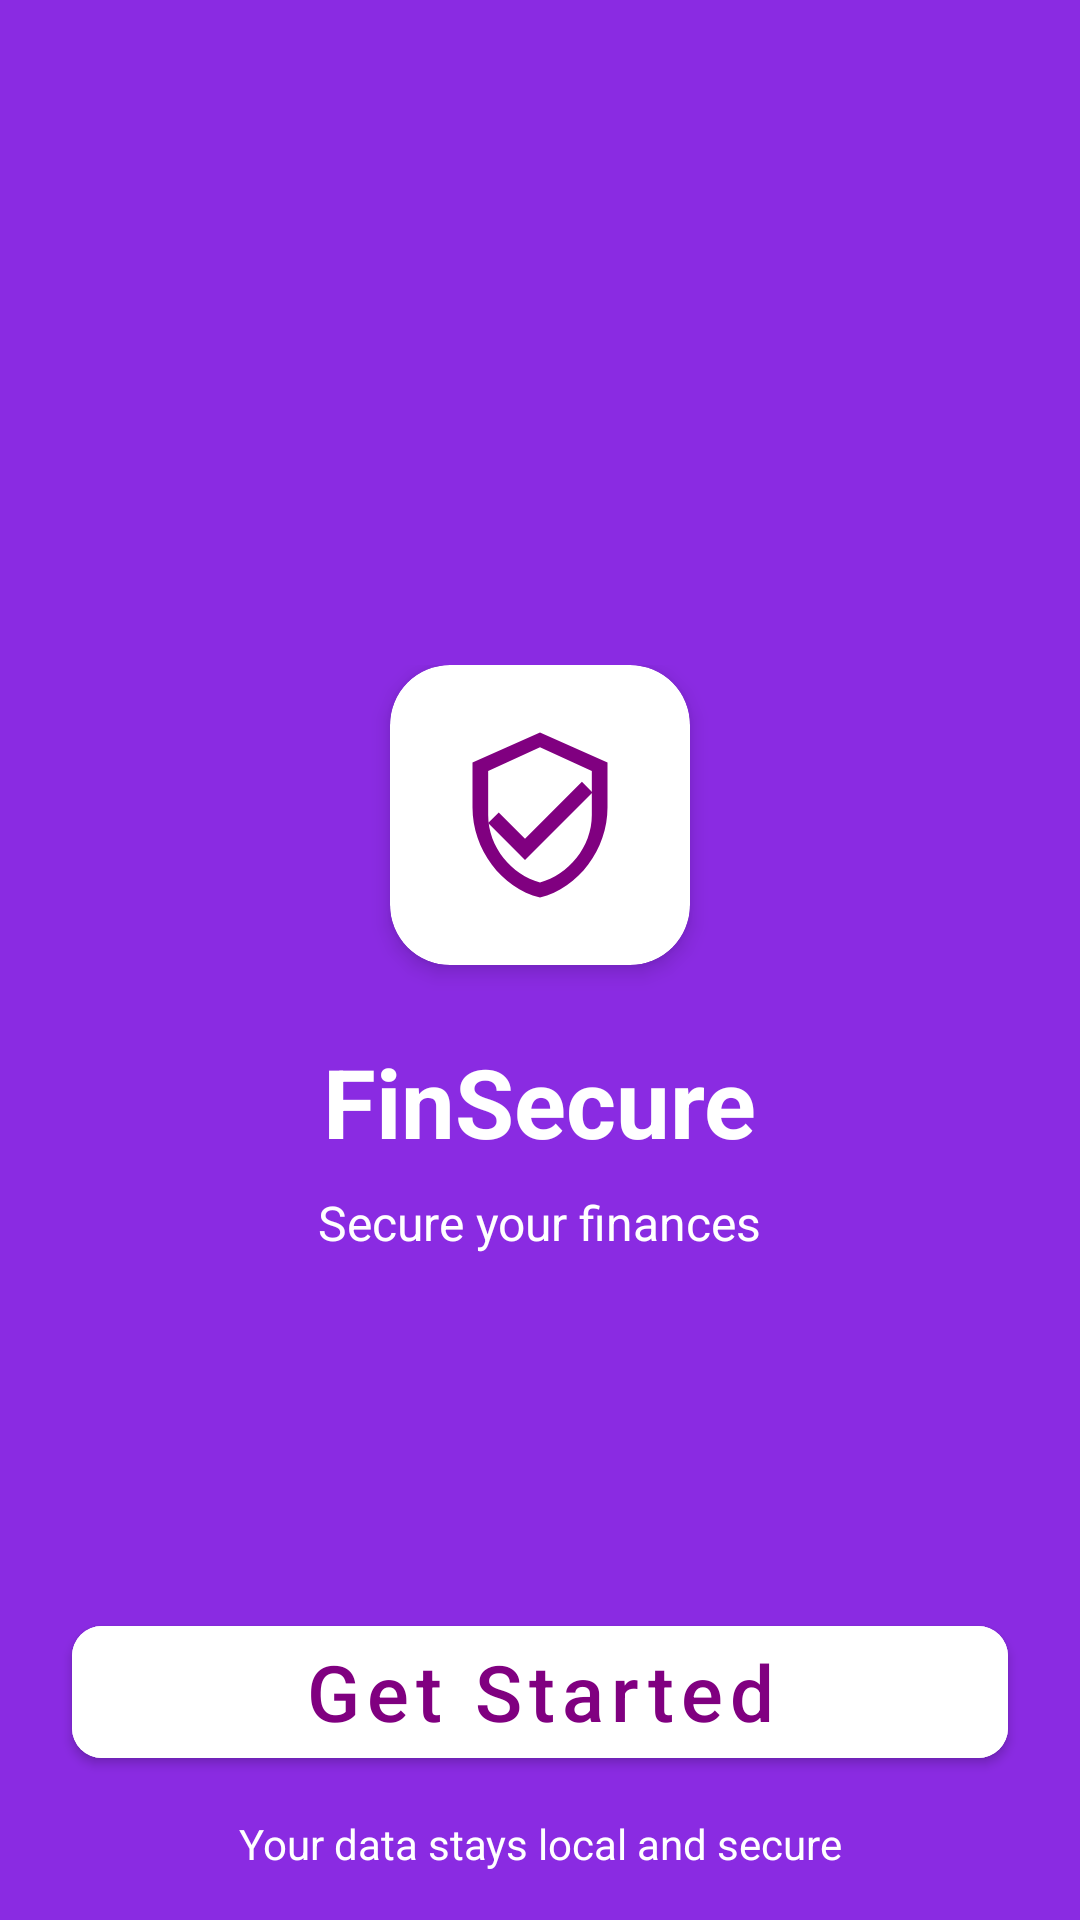

Locate icon controls on the screen. Image size 1080x1920, boxes as BBox(x1, y1, x2, y2).
shield check: BBox(390, 665, 690, 965)
